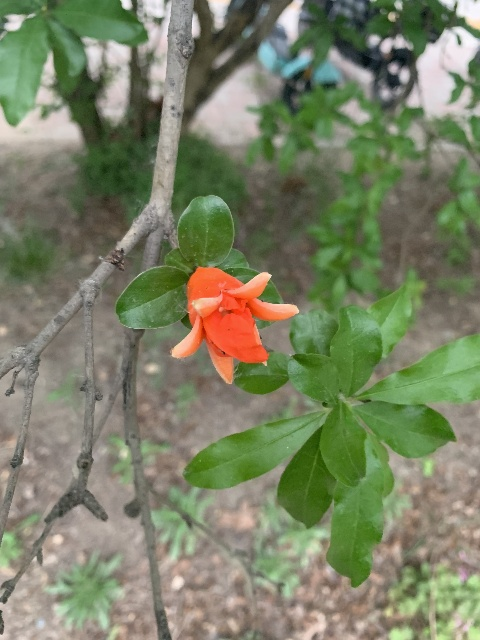flower: (170, 266, 298, 384)
